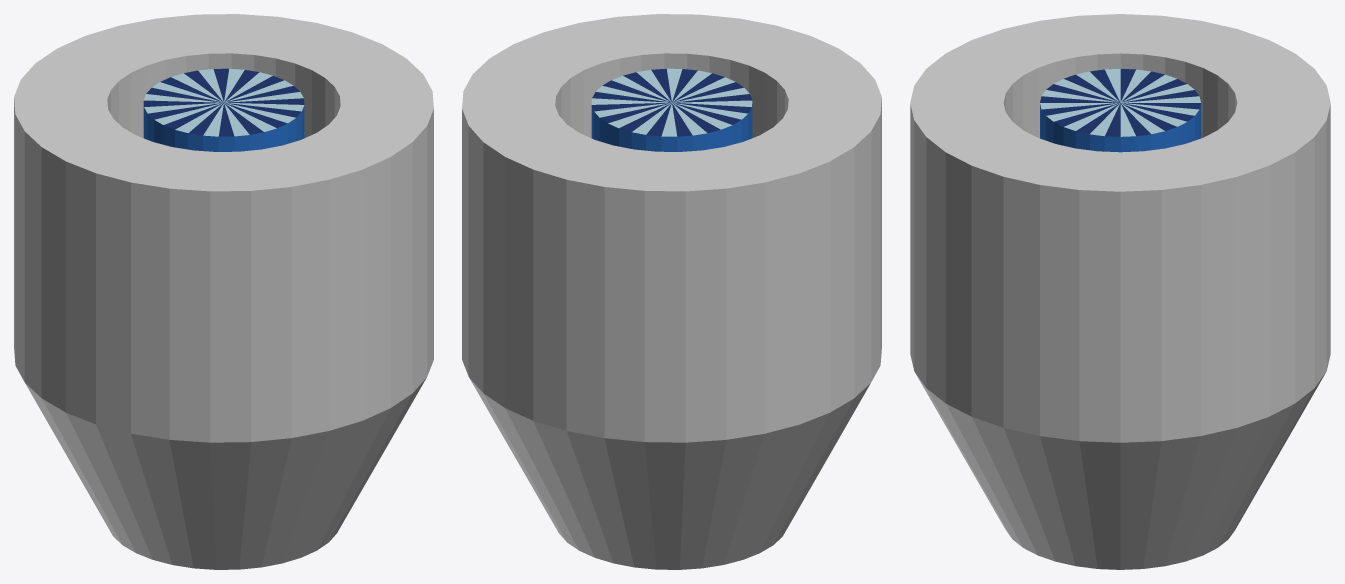
The model's file is level_01.fbx.
3 views of the same model, side by side, from view 1: azimuth 30°, elevation 25°; view 2: azimuth 150°, elevation 25°; view 3: azimuth 270°, elevation 25° (orthographic).
Parts seen in each view (by area): view 1: Cylinder, Cylinder.001; view 2: Cylinder, Cylinder.001; view 3: Cylinder, Cylinder.001.
Boxes of the visible parts, x1,y1,x2,y2 form: Cylinder: (14,14,433,569); Cylinder.001: (143,68,304,151); Cylinder: (462,14,881,569); Cylinder.001: (591,68,752,151); Cylinder: (910,14,1330,569); Cylinder.001: (1040,68,1200,152).
Size of the model in its own units: 304 by 335 by 304.
